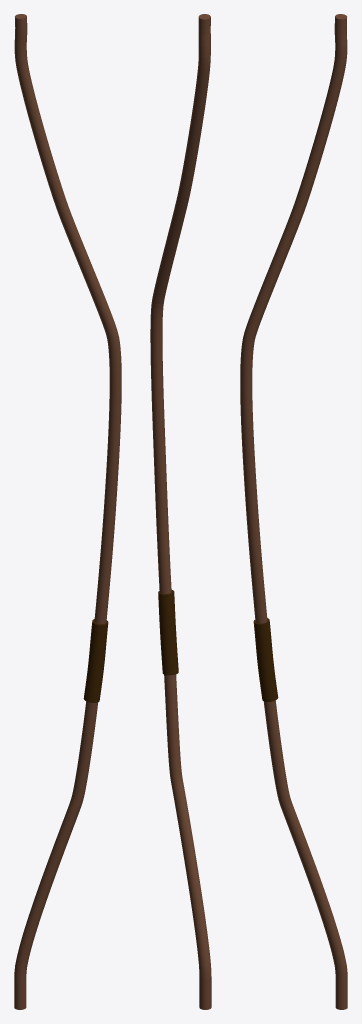
The model's file is Asian Bow.fbx.
3 renders of one model, left to right at view 1: azimuth 90°, elevation 25°; view 2: azimuth 210°, elevation 25°; view 3: azimuth 270°, elevation 25°, orthographic.
Parts seen in each view (by area): view 1: Asian Bow; view 2: Asian Bow; view 3: Asian Bow.
Part boxes in pixels (x1,y1,x2,y2): Asian Bow: (14, 14, 121, 1009); Asian Bow: (150, 14, 211, 1009); Asian Bow: (240, 14, 347, 1009).
Size of what is drawn, in the model's own units: 3.82 by 244 by 24.03.
